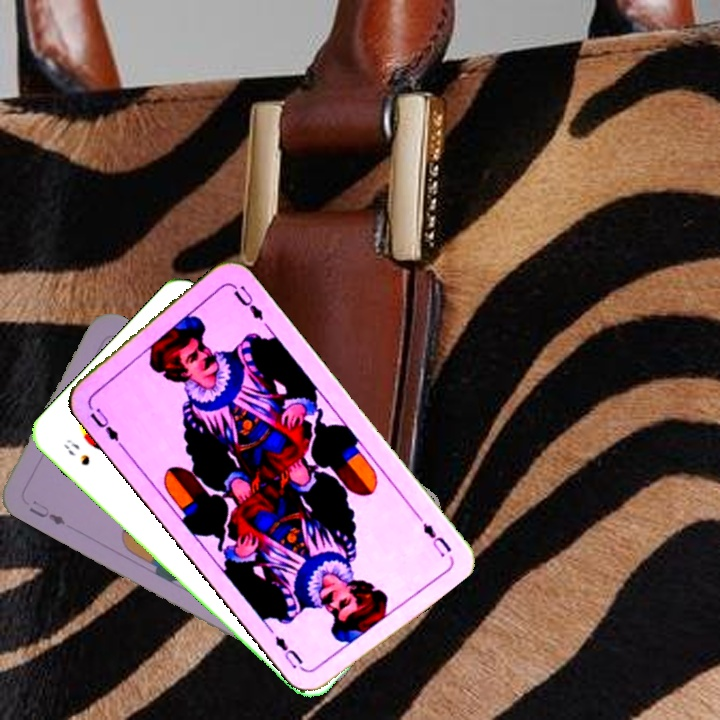EU: (411, 508, 454, 560), (85, 403, 125, 449), (25, 496, 69, 528)
S8: (59, 435, 93, 469)
